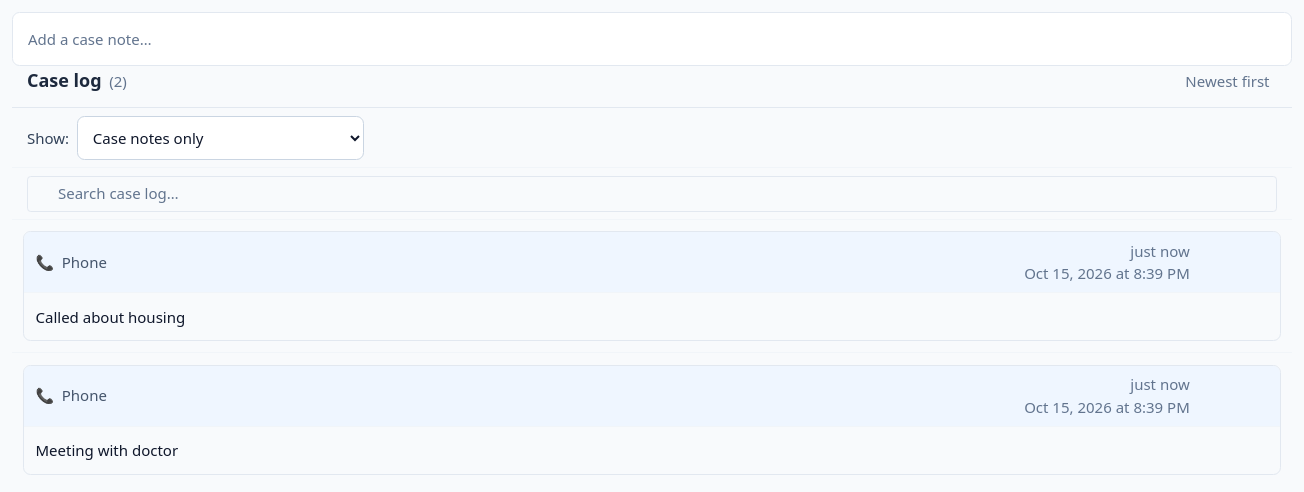
Test: CaseLog › search filters entries by content
The width and height of the screenshot is (1304, 492).
Expected: the text "Called about housing" is shown, [36,306,185,326]
Type "doctor" into the search field with placeholder "Search case log…" at point(652, 194), box [27,176,1277,212]
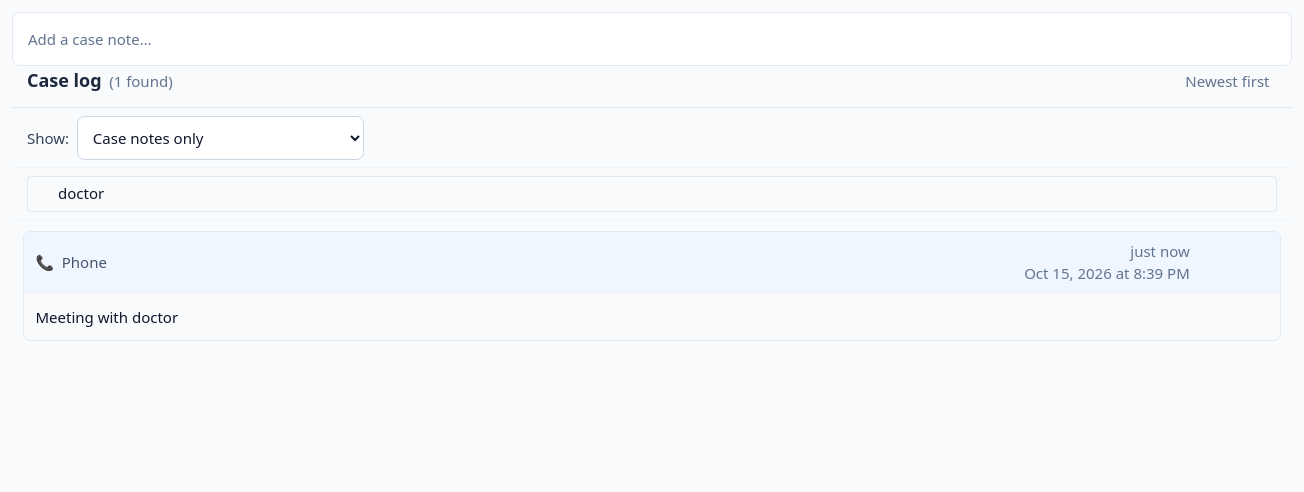
Expected: the text "Meeting with doctor" is shown, [36,306,178,326]
Result: the text "Called about housing" is gone
